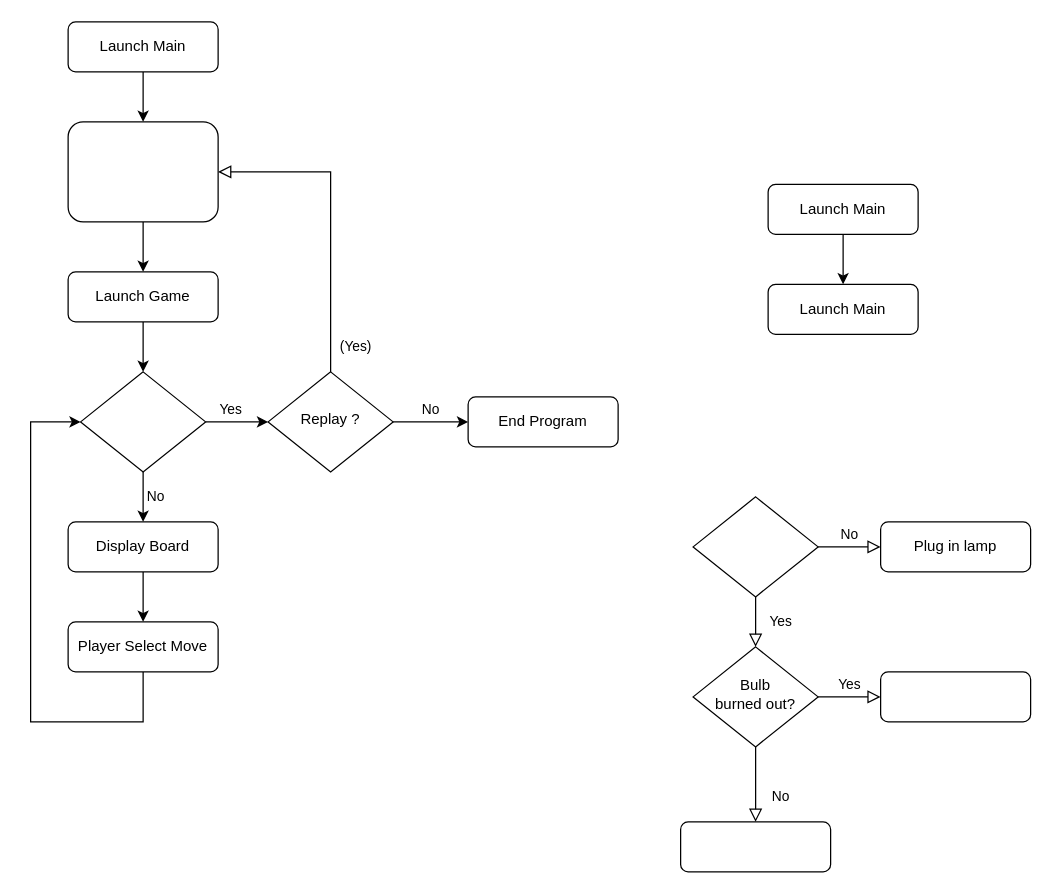
Some shapes in this 1053 by 894 pixel diagram are drawn without their labels. Each missing label, with the centre of its shape:
"Create Game Object Needs : - GameUI - Player Types" goes at (x=142, y=171).
"Is Game finished ?" goes at (x=142, y=421).
"Lamp plugged in?" goes at (x=755, y=546).
"Repair Lamp" goes at (x=755, y=846).
"Replace Bulb" goes at (x=955, y=696).
